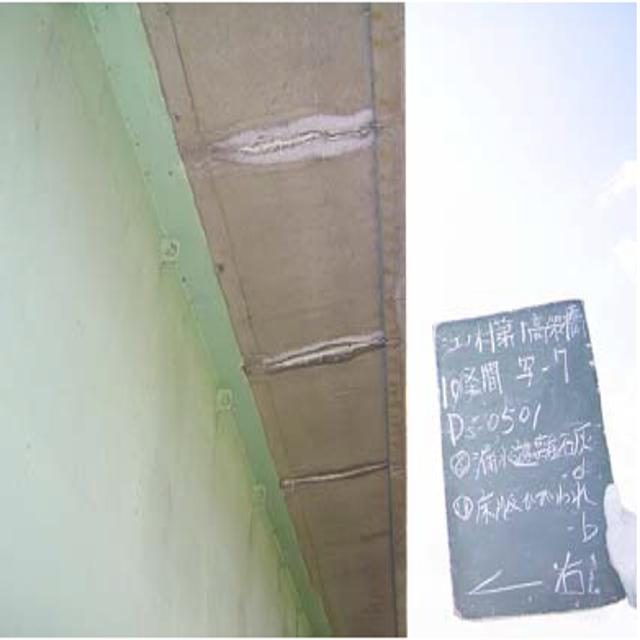freelime: (204, 80, 387, 189)
